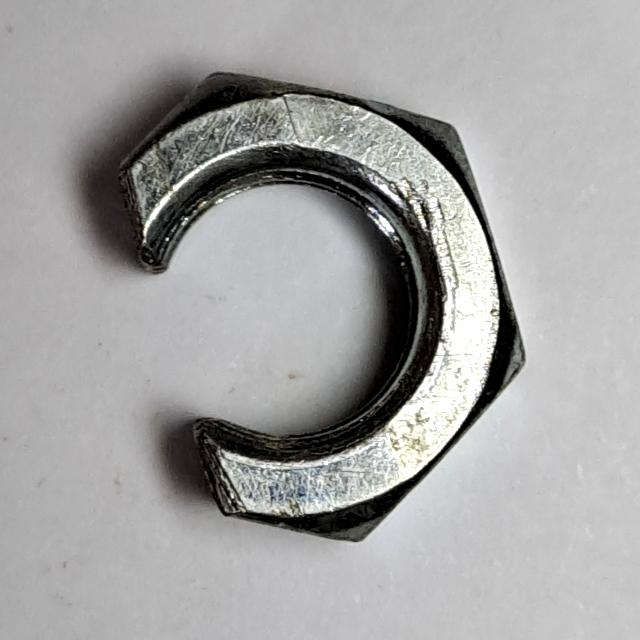Fracture: (102, 53, 545, 571)
